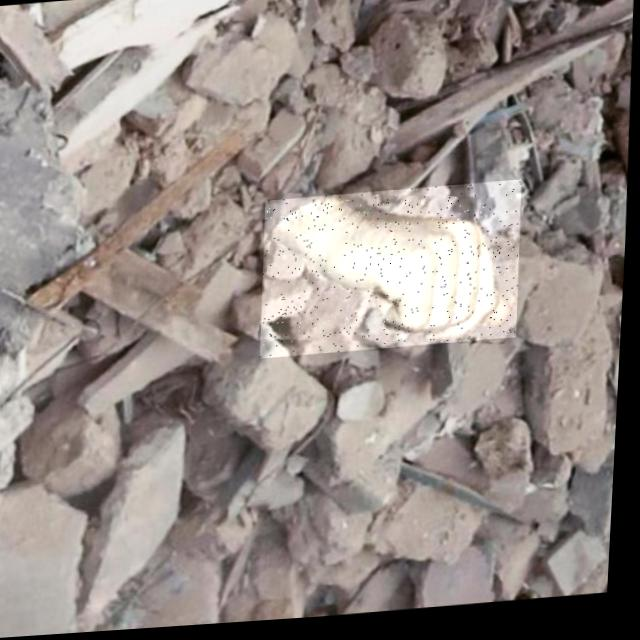Person in Rubble: (260, 187, 525, 362)
